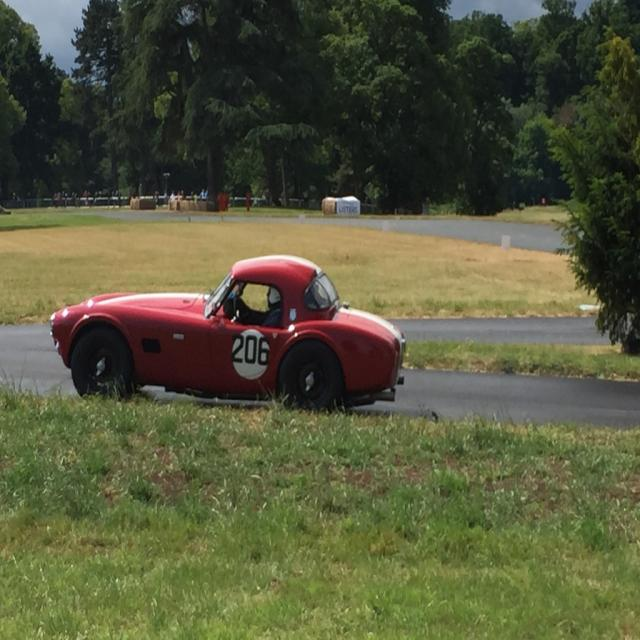car: (50, 249, 416, 417)
